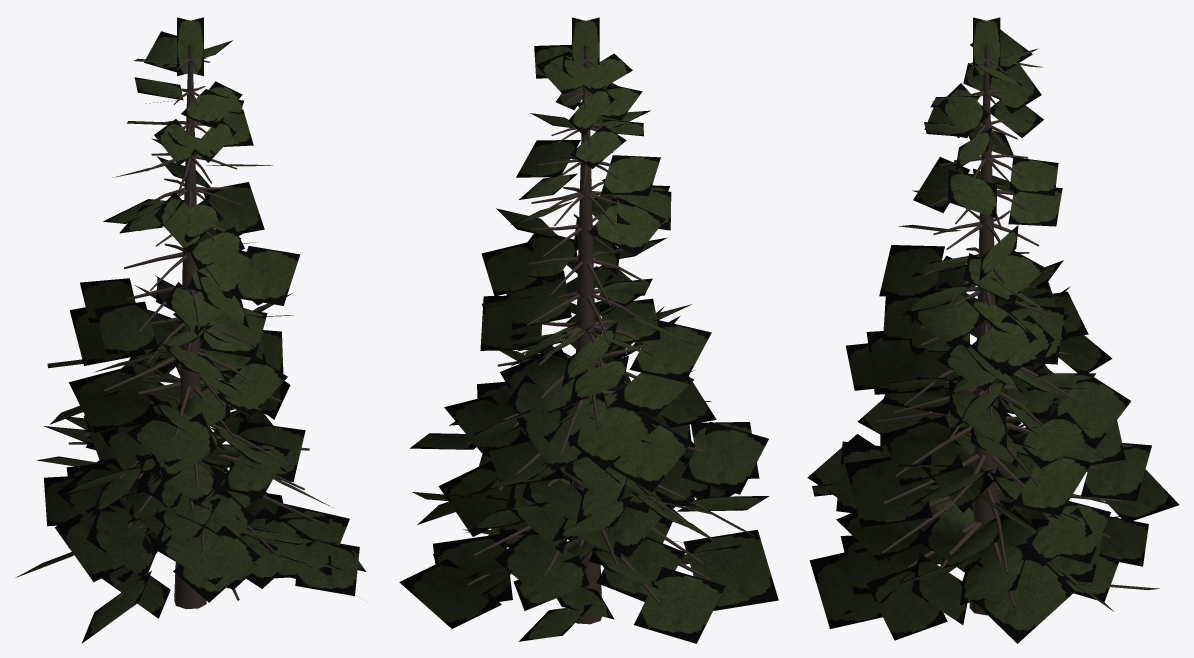
File: pine_3_burnt2.glb
3 views of the same model, side by side, from view 1: azimuth 30°, elevation 25°; view 2: azimuth 150°, elevation 25°; view 3: azimuth 270°, elevation 25° (orthographic). The views are drawn at different scales.
Visible parts, largest first — view 1: pine_3_burnt2; view 2: pine_3_burnt2; view 3: pine_3_burnt2.
Boxes of the visible parts, x1=… form: pine_3_burnt2: x1=15, y1=17, x2=365, y2=643; pine_3_burnt2: x1=399, y1=17, x2=778, y2=643; pine_3_burnt2: x1=807, y1=17, x2=1179, y2=643.
Size of the model in its own units: 6.26 by 12.23 by 7.03.
Materials: 2 (1 with a texture image).
